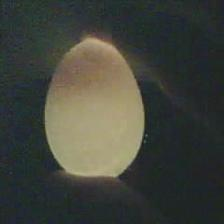infertile: (42, 36, 146, 180)
